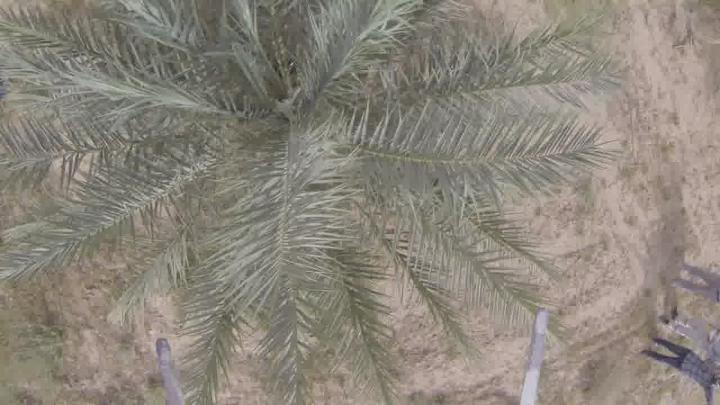Date-Palm-Crown: (97, 3, 457, 312)
